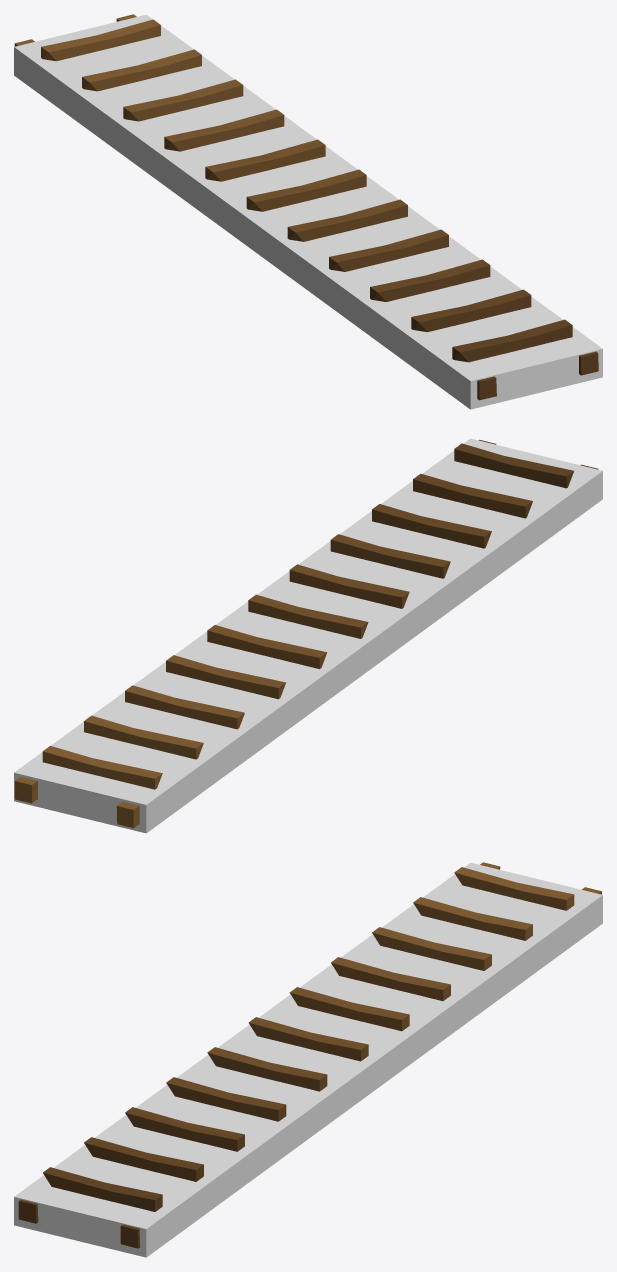
File: ladder_1.glb
3 views of the same model, one above another, from view 1: azimuth 30°, elevation 25°; view 2: azimuth 150°, elevation 25°; view 3: azimuth 330°, elevation 25° (orthographic).
Parts seen in each view (by area): view 1: Cube.001, Stairs_02; view 2: Cube.001, Stairs_02; view 3: Cube.001, Stairs_02.
Boxes of the visible parts, <box> form: Cube.001: <box>14,14,602,409</box>; Stairs_02: <box>14,14,598,400</box>; Cube.001: <box>14,438,602,833</box>; Stairs_02: <box>15,439,598,828</box>; Cube.001: <box>14,862,602,1257</box>; Stairs_02: <box>18,862,601,1248</box>.
Bounding box in the file's own units: 0.5748 × 0.1684 × 3.49.
1 material, 1 textured.
